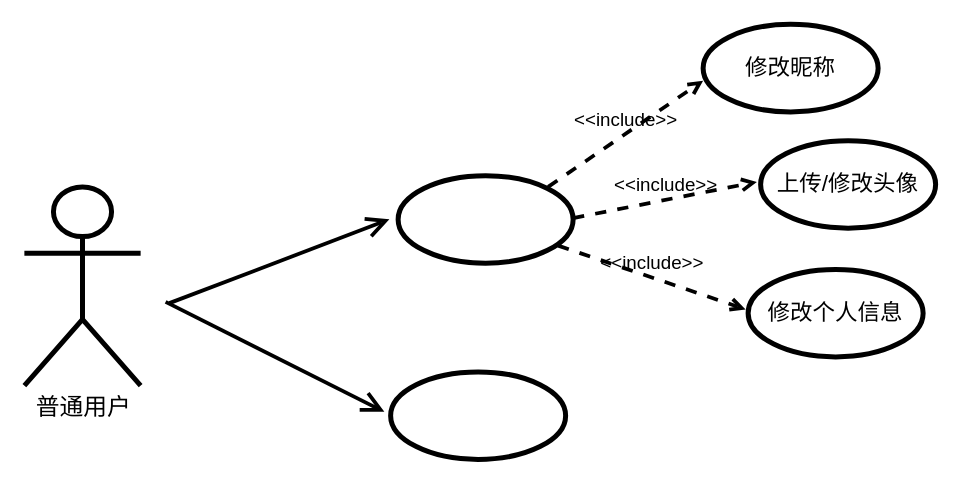
Some shapes in this 959 by 483 pixel diagram are drawn without their labels. Here are the shapes that lost their labels. From the top down, the box of each, then its label:
(395, 172, 575, 265): 修改个人资料
(388, 369, 568, 461): 修改密码
